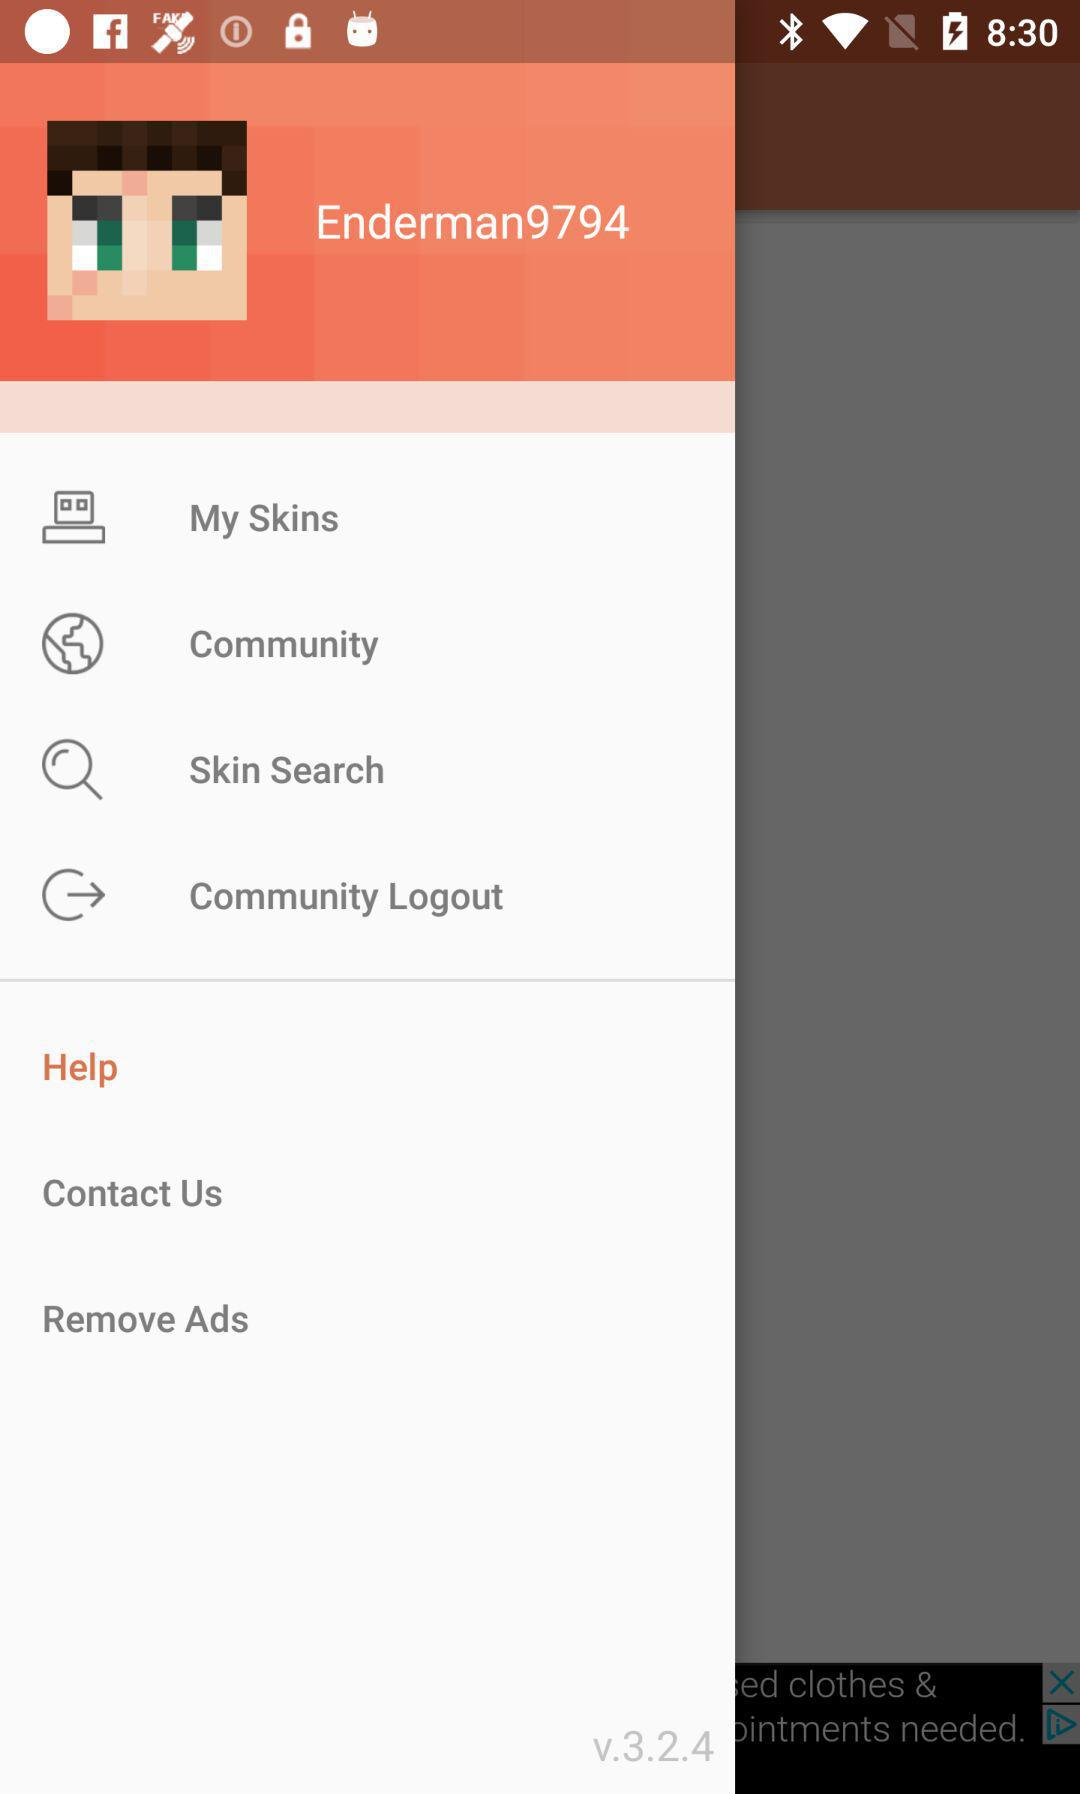Drawer: (1, 64, 735, 1794)
Icon: (42, 738, 105, 802), (41, 868, 108, 923)
Image: (47, 120, 249, 322), (42, 613, 105, 677), (42, 490, 108, 546)
Text: (190, 880, 505, 920), (318, 202, 632, 241), (190, 629, 380, 668), (44, 1303, 250, 1335), (190, 753, 386, 787), (190, 501, 340, 541), (44, 1178, 224, 1208), (591, 1727, 715, 1763), (44, 1051, 119, 1090)
UpperTaskBar: (1, 1, 1080, 64)
